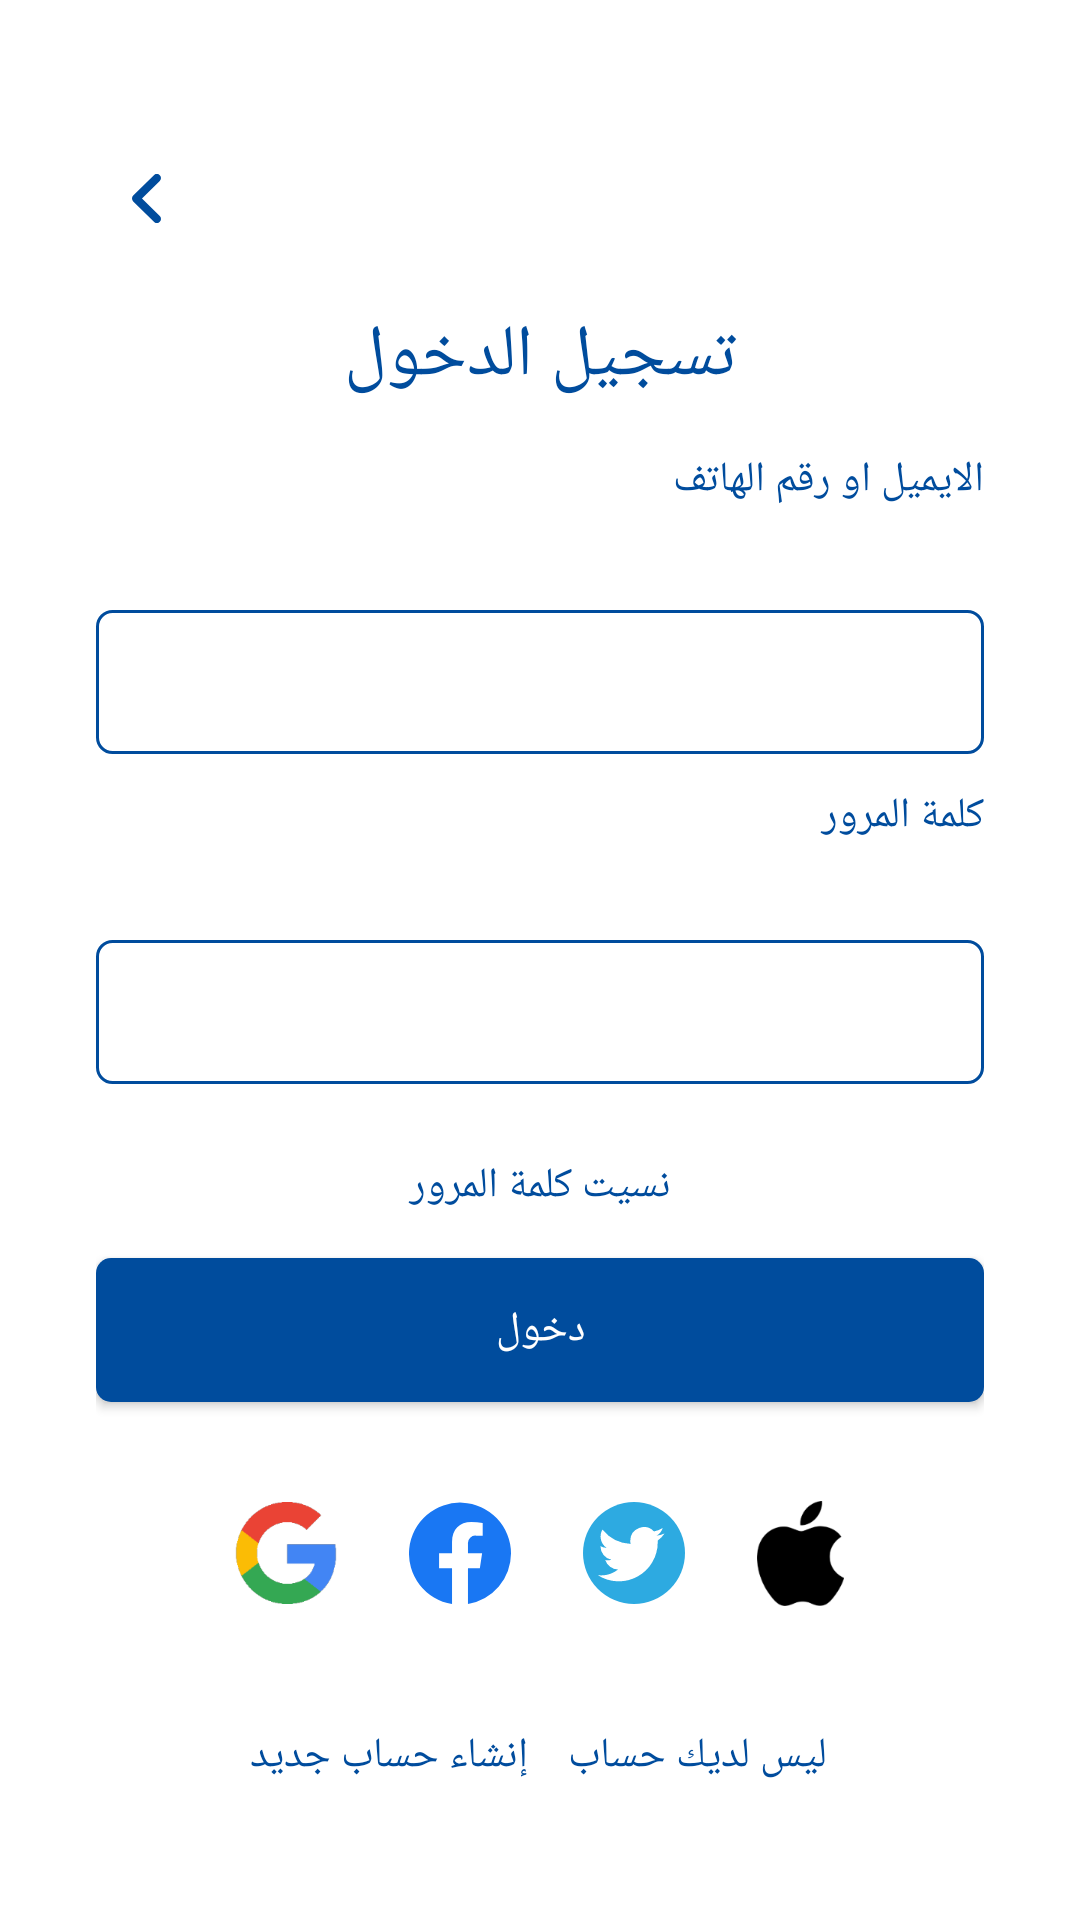

Named icons in this screenshot (1080w x 1920h) and their centers, (x,y):
angle left: (146,198)
